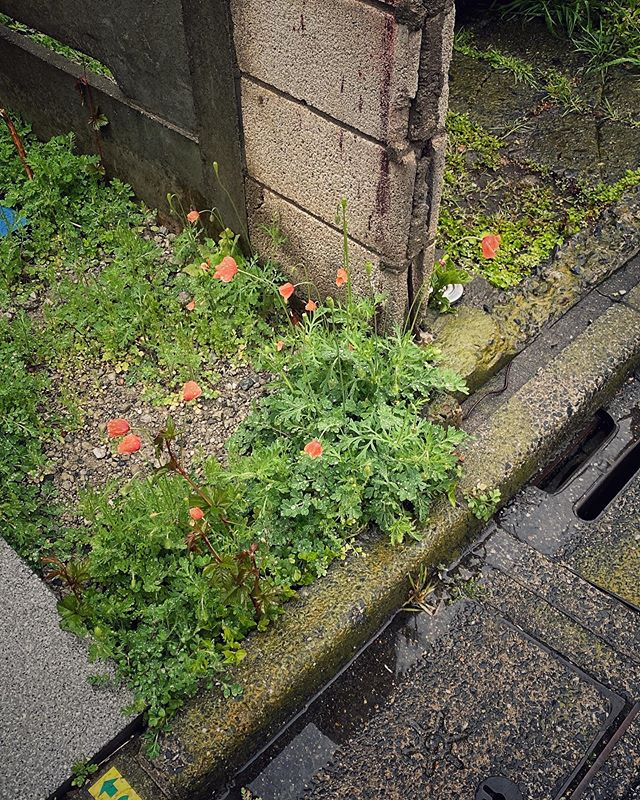vegetation: (1, 146, 456, 642)
